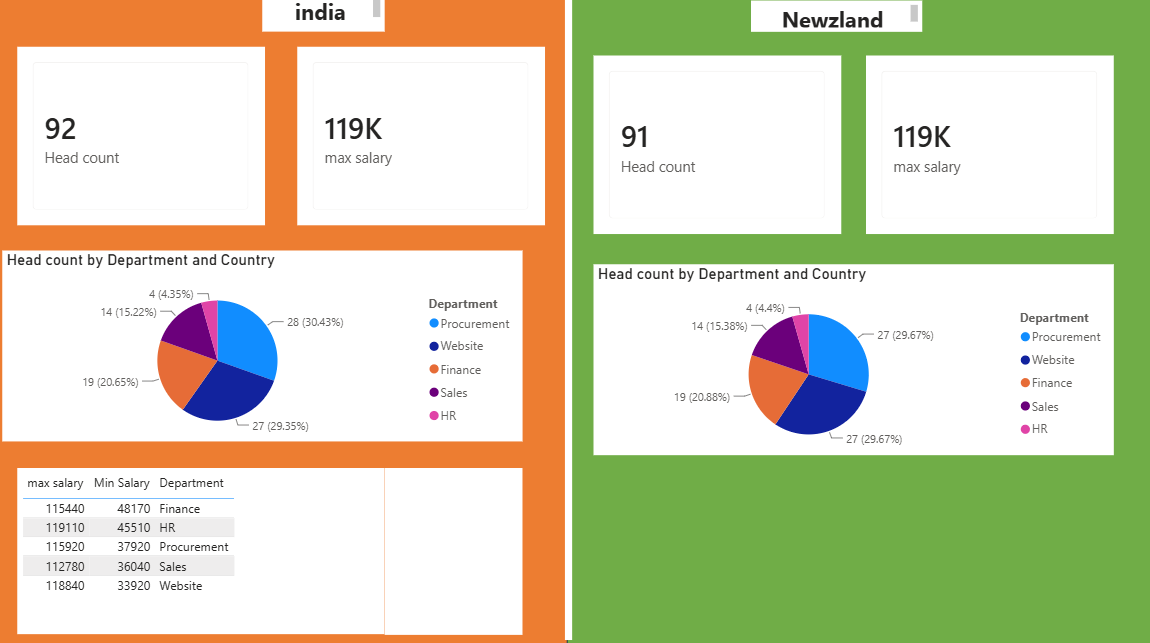

This screenshot's page, from the dashboard's own definition file:
{"tool":"powerbi","page":{"name":"Page 10","canvas":[1280,720],"ordinal":9},"visuals":[{"type":"cardVisual","fields":{"Data":["Data.Head count"]},"box":[28.8,59,271.7,196.2],"z":0},{"type":"cardVisual","fields":{"Data":["Data.Head count"]},"box":[661.4,68.6,271.7,196.2],"z":1000},{"type":"cardVisual","fields":{"Data":["Data.max salary"]},"box":[336.2,59,271.7,196.2],"z":2000},{"type":"cardVisual","fields":{"Data":["Data.max salary"]},"box":[960.6,68.6,271.7,196.2],"z":3000},{"type":"pieChart","fields":{"Category":["Data.Department"],"Y":["Data.Head count"],"Series":["Data.Country"]},"box":[12.3,282.7,570.8,209.9],"z":4000},{"type":"pieChart","fields":{"Category":["Data.Department"],"Y":["Data.Head count"],"Series":["Data.Country"]},"box":[661.4,297.8,570.8,209.9],"z":5000},{"type":"tableEx","fields":{"Values":["Data.max salary","Data.Min Salary","Data.Department"]},"box":[28.8,521.4,403.4,182.5],"z":6000},{"type":"textbox","box":[432,521,151,183],"z":7000},{"type":"textbox","box":[297.8,0,134.5,42.5],"z":7001},{"type":"textbox","box":[834.3,8.2,188,34.3],"z":7002}]}

Visuals, with their boxes in screenshot pixels (x1, y1, x2, y2), scaled from the page's 1280x720 canvas onto the 1150x643 screenshot:
cardVisual - Data.Head count: 26:53:270:228
cardVisual - Data.Head count: 594:61:838:236
cardVisual - Data.max salary: 302:53:546:228
cardVisual - Data.max salary: 863:61:1107:236
pieChart - Data.Department x Data.Head count: 11:252:524:440
pieChart - Data.Department x Data.Head count: 594:266:1107:453
tableEx - Data.max salary x Data.Min Salary: 26:466:388:629
textbox: 388:465:524:629
textbox: 268:0:388:38
textbox: 750:7:918:38
